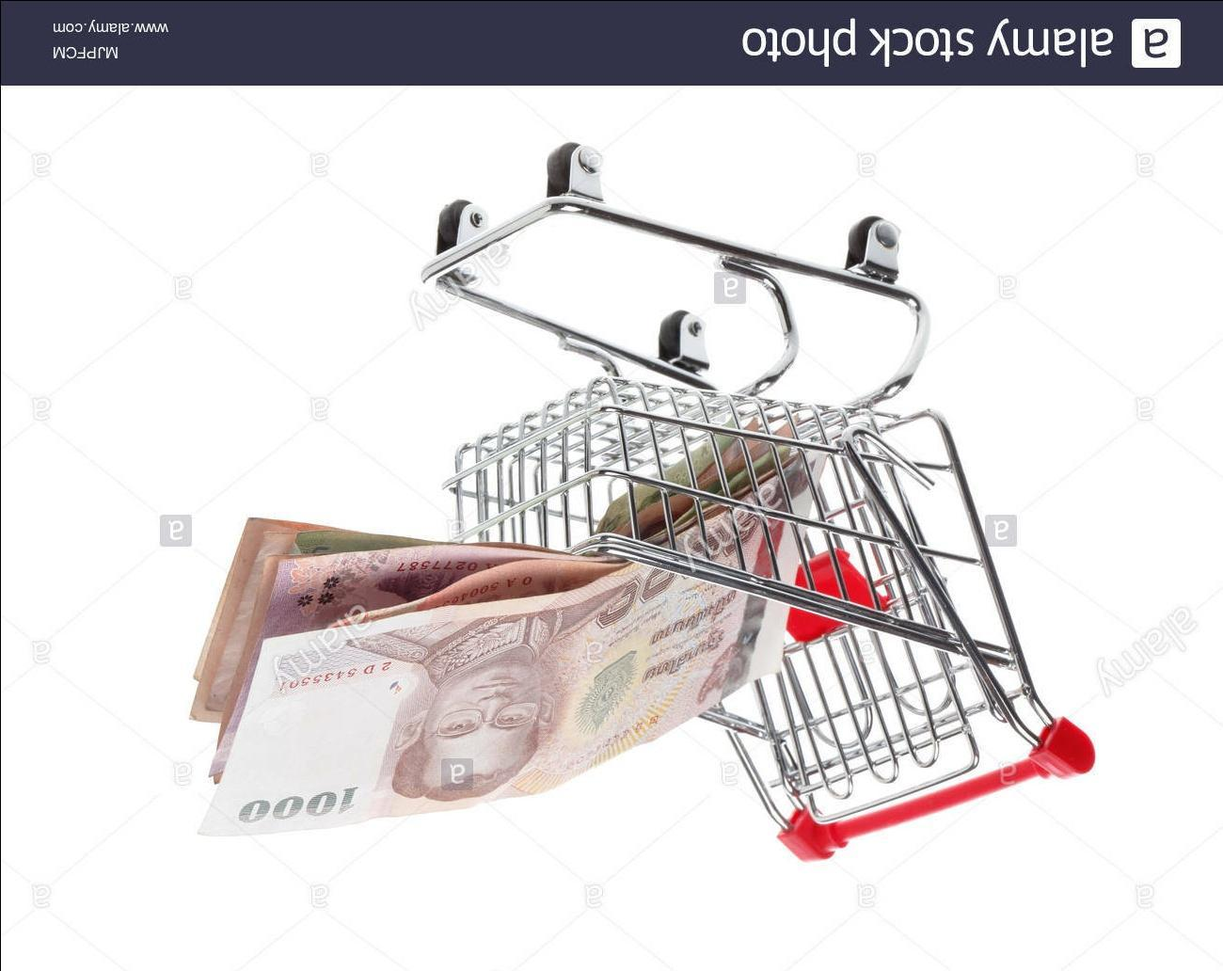1000BahtTai: (211, 554, 775, 845)
